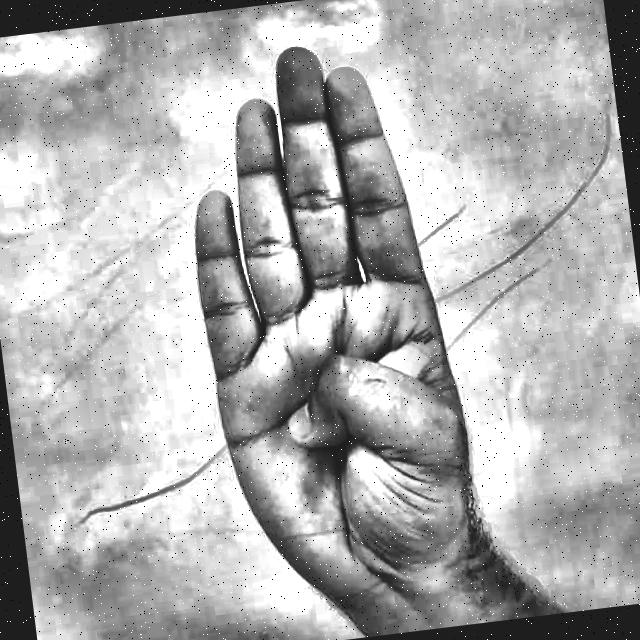Ba: (137, 2, 541, 640)
